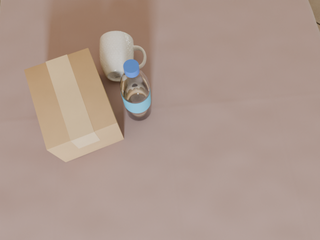bottle: (120, 59, 151, 121)
box: (24, 48, 124, 162)
cup: (100, 31, 146, 81)
